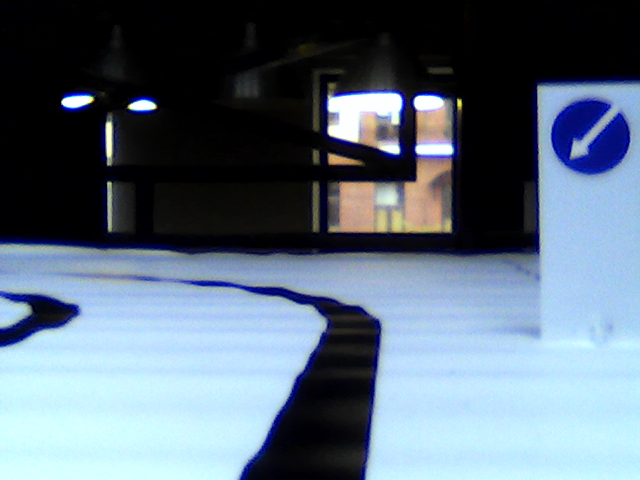prep: (548, 99, 633, 175)
